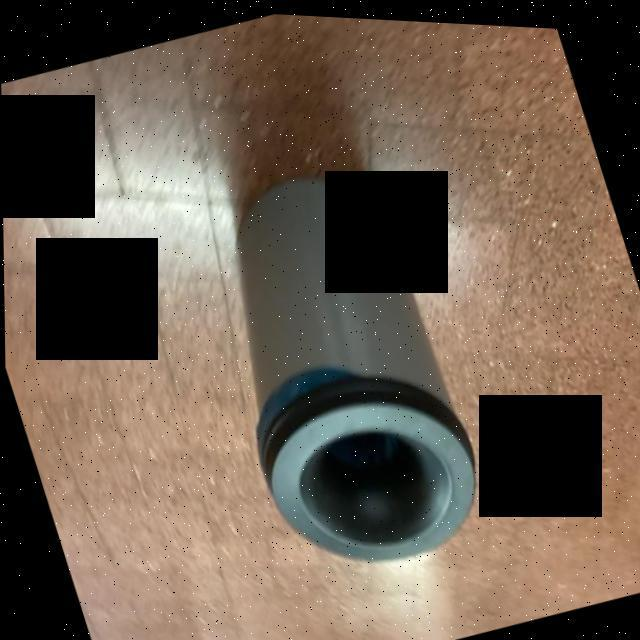bin: (142, 98, 546, 621)
